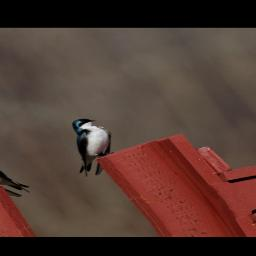Swallow: (45, 113, 136, 179)
